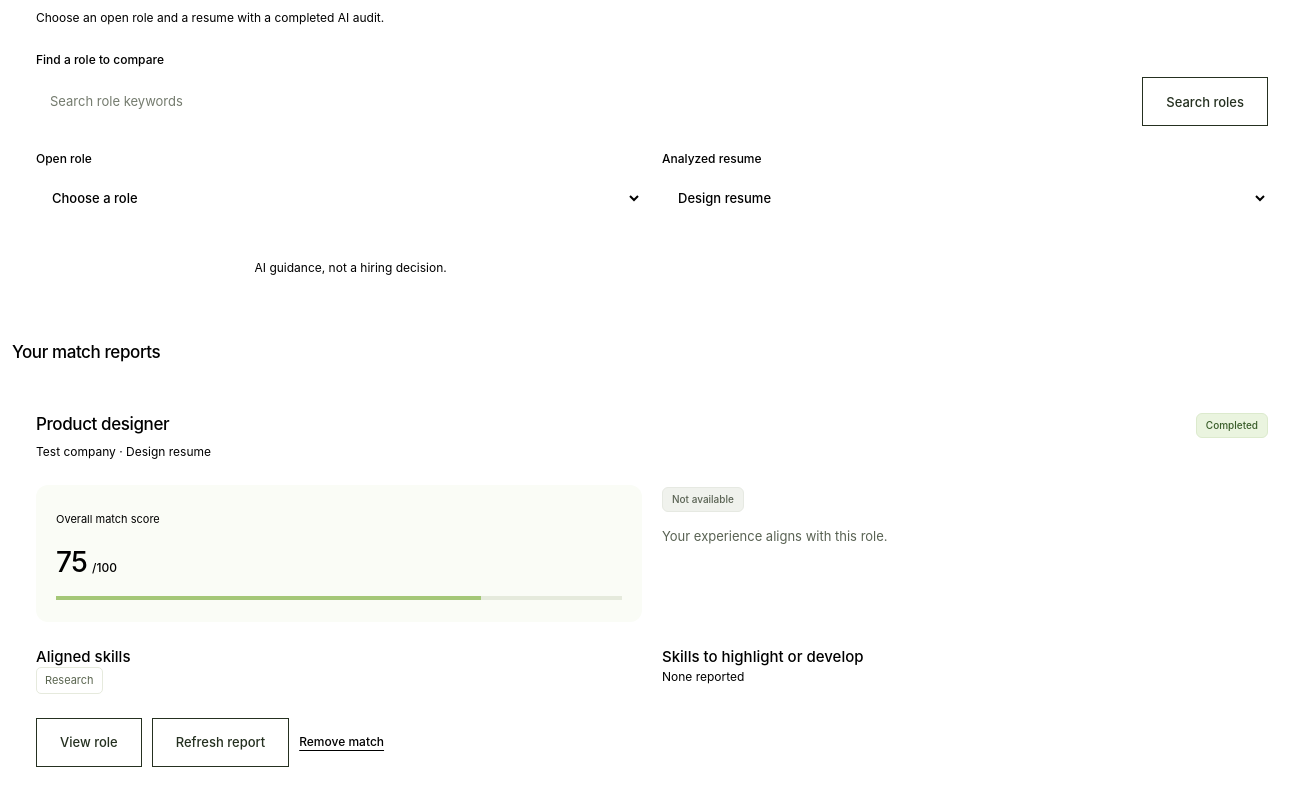
refreshes a saved match and shows regeneration errors
(page scrolled)
Click the button "Refresh report". click: (220, 742)
box: [152,718,289,767]
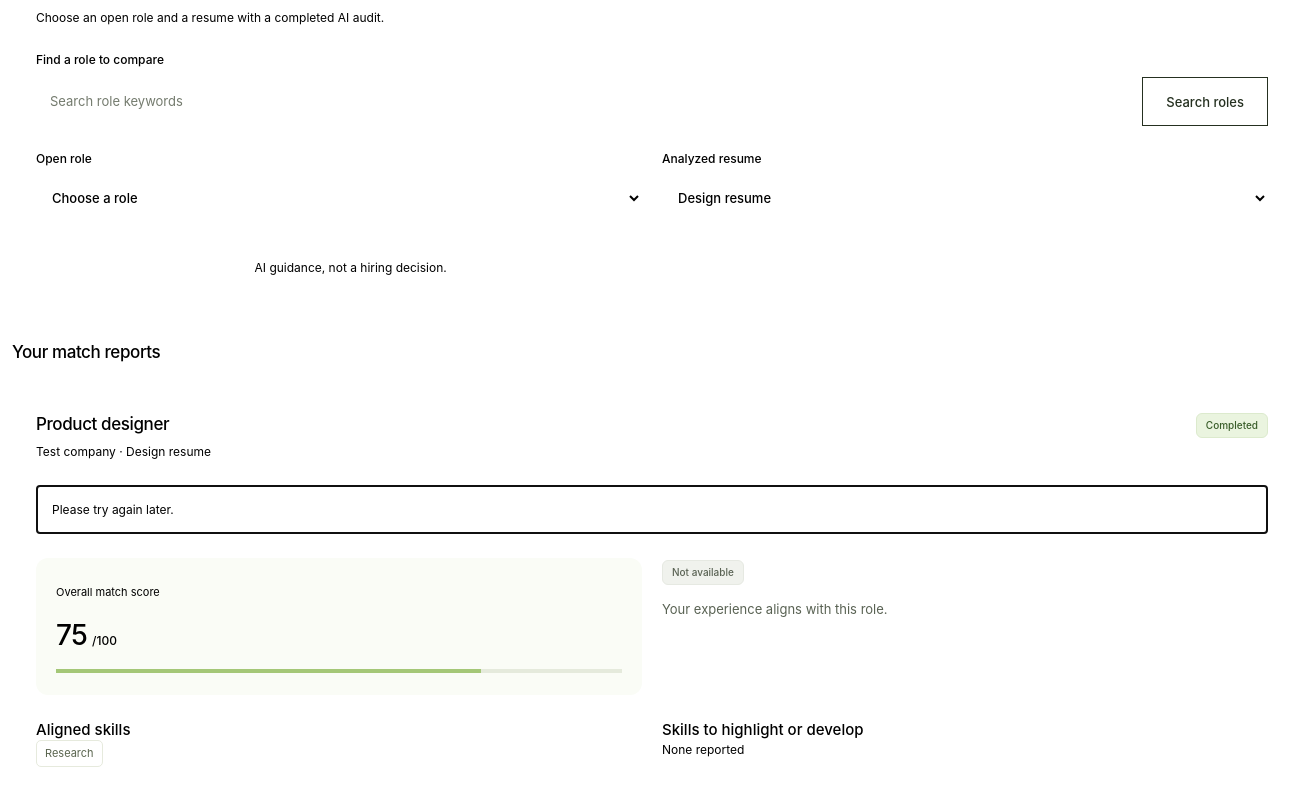
Expected: the text "Your experience aligns with this role." is shown, [662,601,888,617]
Now the text "Please try again later." is shown, box [36,485,1268,534]
